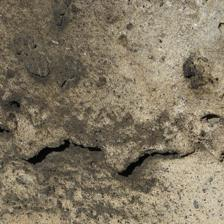Crack: (4, 71, 202, 109)
